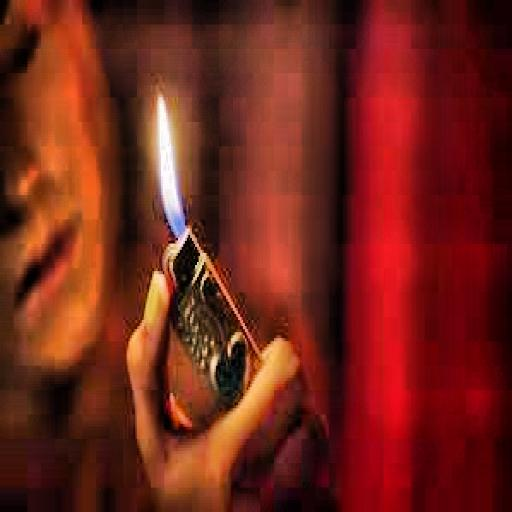fire: (149, 88, 192, 238)
